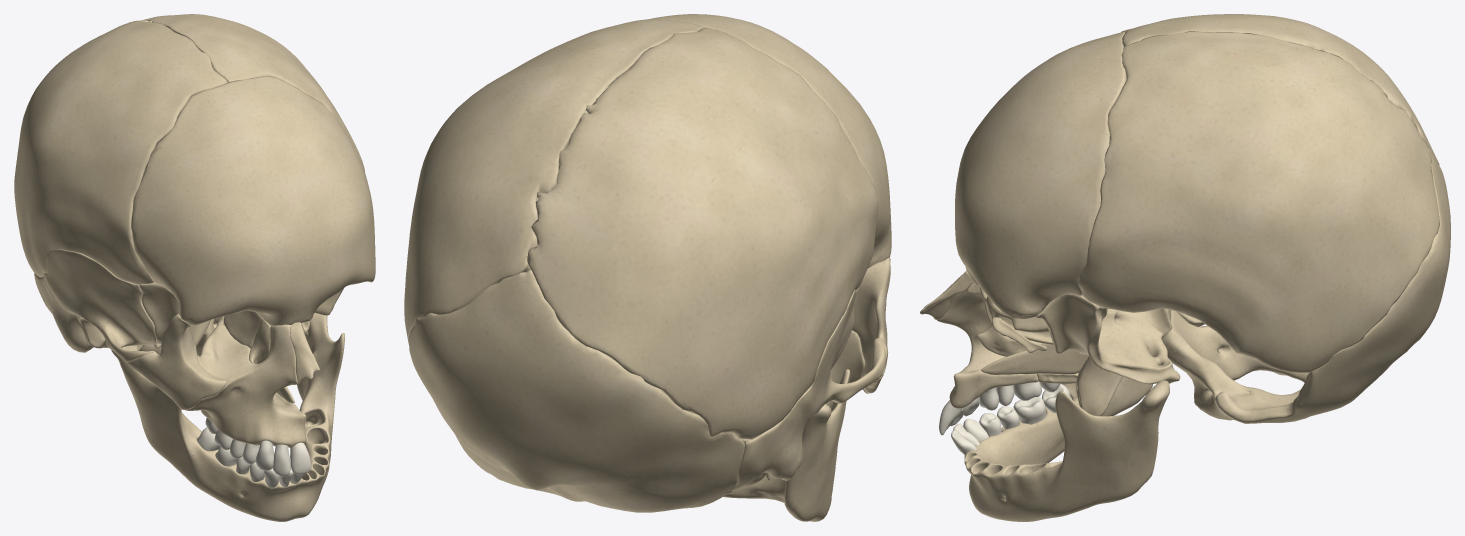
The model's file is overview-skull-natural.glb.
3 renders of one model, left to right at view 1: azimuth 30°, elevation 25°; view 2: azimuth 150°, elevation 25°; view 3: azimuth 270°, elevation 25°, orthographic. The views are drawn at different scales.
Visible parts, largest first — view 1: Frontal bone, Parietal bone right, Mandible bone, Maxilla bone.r, Temporal bone.r, Parietal bone left, Zygomatic bone.r, Sphenoid bone, Ethmoid Bone, Nasal bone.r, Lacrimal bone.r, Upper medial incisor.r (+2 smaller); view 2: Parietal bone right, Occipital bone, Parietal bone left, Frontal bone, Temporal bone.r, Mandible bone, Zygomatic bone.r, Maxilla bone.r; view 3: Parietal bone left, Frontal bone, Mandible bone, Occipital bone, Sphenoid bone, Parietal bone right, Maxilla bone.r, Vomer, Ethmoid Bone, Nasal bone.r, Inferior nasal concha bone.r, Lower first molar tooth.r.
Boxes of the visible parts, x1=… form: Frontal bone: x1=131, y1=76, x2=375, y2=325; Parietal bone right: x1=14, y1=20, x2=227, y2=284; Mandible bone: x1=111, y1=313, x2=344, y2=521; Maxilla bone.r: x1=185, y1=324, x2=306, y2=447; Temporal bone.r: x1=34, y1=249, x2=156, y2=362; Parietal bone left: x1=143, y1=14, x2=364, y2=171; Zygomatic bone.r: x1=128, y1=313, x2=227, y2=409; Sphenoid bone: x1=139, y1=282, x2=343, y2=356; Ethmoid Bone: x1=223, y1=310, x2=309, y2=348; Nasal bone.r: x1=290, y1=322, x2=319, y2=383; Lacrimal bone.r: x1=249, y1=319, x2=270, y2=363; Upper medial incisor.r: x1=290, y1=442, x2=311, y2=474; Parietal bone right: x1=527, y1=28, x2=878, y2=439; Occipital bone: x1=408, y1=269, x2=744, y2=512; Parietal bone left: x1=404, y1=19, x2=703, y2=343; Frontal bone: x1=649, y1=14, x2=891, y2=267; Temporal bone.r: x1=728, y1=287, x2=886, y2=491; Mandible bone: x1=723, y1=369, x2=850, y2=521; Zygomatic bone.r: x1=852, y1=258, x2=890, y2=393; Maxilla bone.r: x1=826, y1=330, x2=868, y2=409; Parietal bone left: x1=1078, y1=31, x2=1439, y2=372; Frontal bone: x1=955, y1=31, x2=1126, y2=318; Mandible bone: x1=964, y1=373, x2=1169, y2=521; Occipital bone: x1=1162, y1=147, x2=1450, y2=423; Sphenoid bone: x1=1036, y1=294, x2=1180, y2=415; Parietal bone right: x1=1121, y1=14, x2=1439, y2=165; Maxilla bone.r: x1=937, y1=284, x2=1038, y2=408; Vomer: x1=981, y1=343, x2=1088, y2=374; Ethmoid Bone: x1=966, y1=283, x2=1076, y2=352; Nasal bone.r: x1=920, y1=270, x2=972, y2=319; Inferior nasal concha bone.r: x1=977, y1=326, x2=1042, y2=356; Lower first molar tooth.r: x1=1013, y1=396, x2=1046, y2=424.
Bounding box in the file's own units: 0.1485 × 0.2013 × 0.2038.
Materials: 29 (15 with a texture image).
